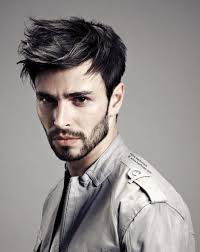noMask: (12, 17, 129, 156)
